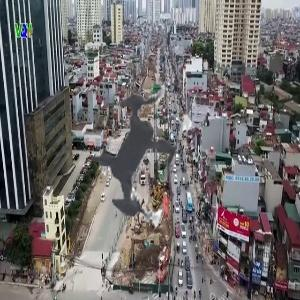drone: (32, 44, 246, 258)
